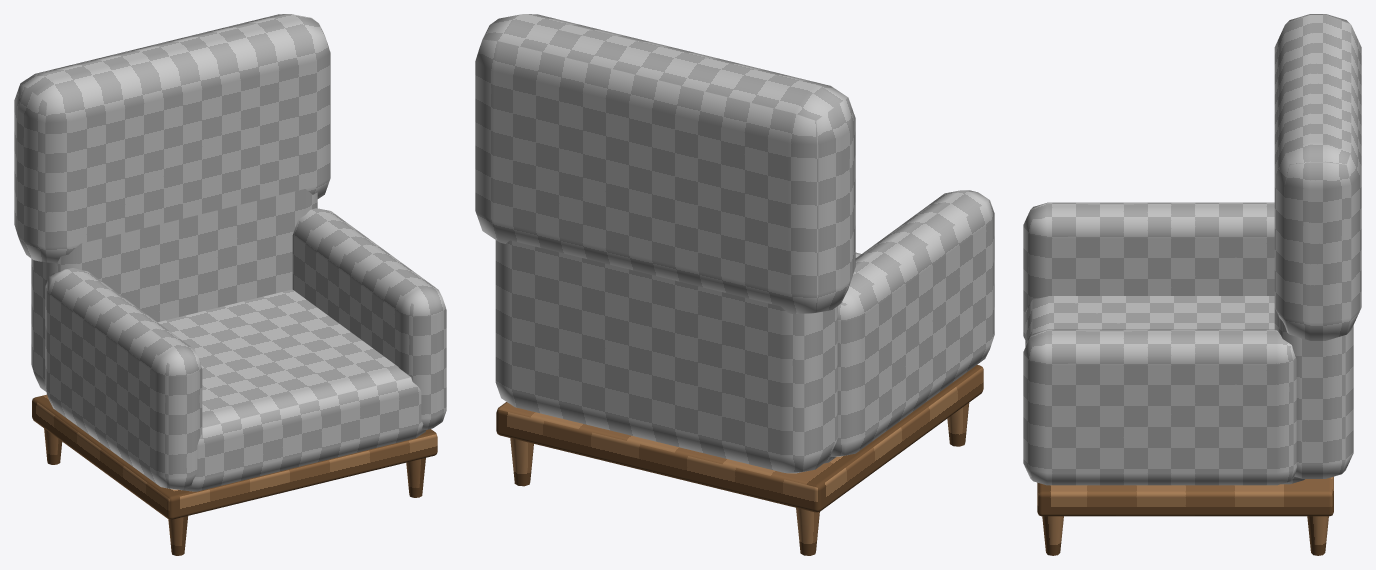
Rendered from armchair_v1.glb.
3 views of the same model, side by side, from view 1: azimuth 30°, elevation 25°; view 2: azimuth 150°, elevation 25°; view 3: azimuth 270°, elevation 25° (orthographic). The views are drawn at different scales.
Parts seen in each view (by area): view 1: dyn_velvet_variant, dyn_wood_variant; view 2: dyn_velvet_variant, dyn_wood_variant; view 3: dyn_velvet_variant, dyn_wood_variant.
Boxes of the visible parts, x1,y1,x2,y2 form: dyn_velvet_variant: [14, 14, 446, 491]; dyn_wood_variant: [32, 394, 437, 555]; dyn_velvet_variant: [475, 14, 994, 473]; dyn_wood_variant: [496, 365, 983, 555]; dyn_velvet_variant: [1023, 14, 1361, 485]; dyn_wood_variant: [1037, 476, 1333, 555].
Bounding box in the file's own units: 0.9407 × 1.15 × 0.8555.
Materials: 2 (2 with a texture image).
